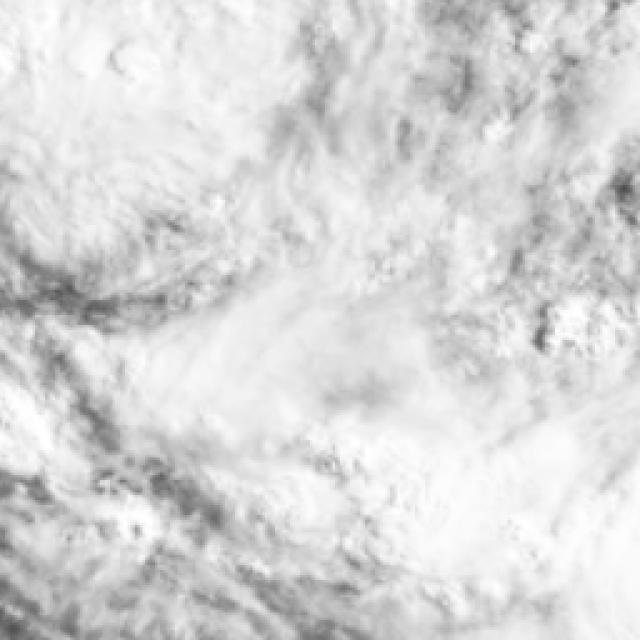CB: (325, 411, 521, 561)
